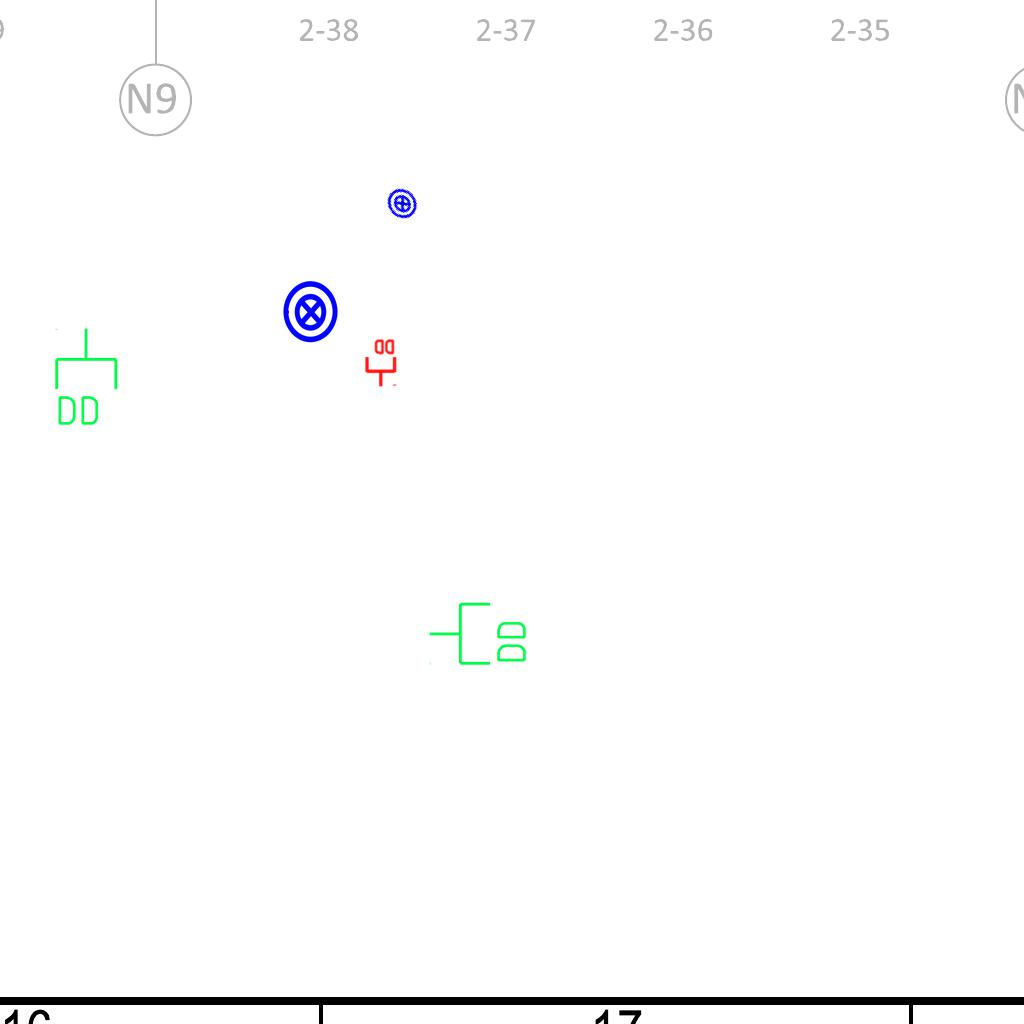Datenanschluss_zweifach: (51, 326, 120, 429), (427, 600, 530, 669), (363, 337, 397, 388)
Taster_beleuchtet: (278, 279, 344, 345), (379, 180, 426, 227)
